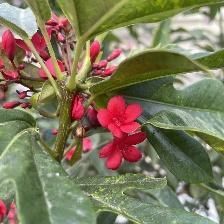jatropha: (98, 94, 144, 140)
